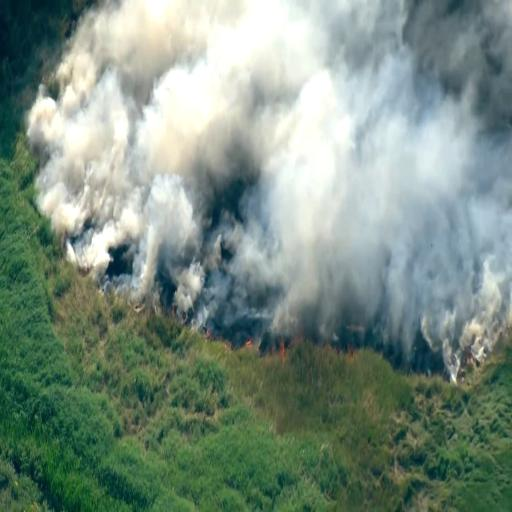smoke: (142, 60, 510, 342), (56, 6, 190, 290)
